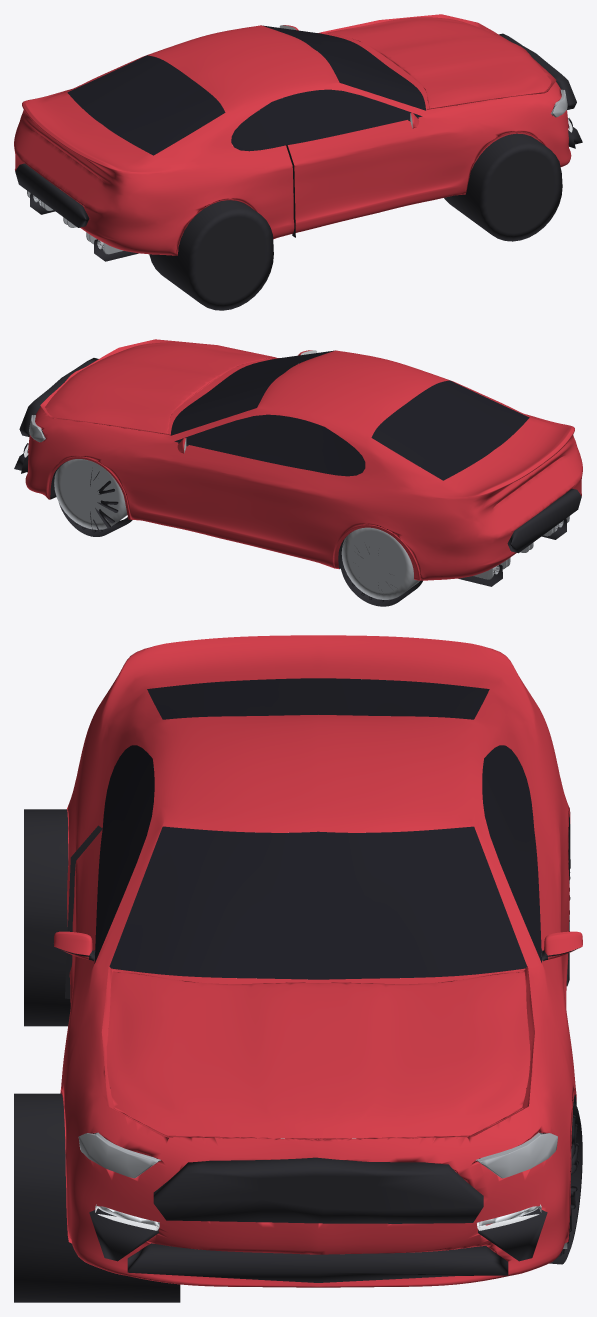
Rendered from car.glb.
3 views of the same model, one above another, from view 1: azimuth 30°, elevation 25°; view 2: azimuth 150°, elevation 25°; view 3: azimuth 270°, elevation 25° (orthographic). The views are drawn at different scales.
Parts seen in each view (by area): view 1: paint, matte, glass, metal; view 2: paint, glass, metal (×3), matte (×3), gloss; view 3: paint, glass, matte (×2), metal.
Part boxes in pixels (box(x1,y1,x2,y2)): paint: box(14, 14, 571, 255); matte: box(15, 33, 582, 310); glass: box(67, 25, 572, 155); metal: box(27, 89, 567, 254); paint: box(25, 339, 582, 580); glass: box(23, 350, 529, 480); metal (×3): box(29, 415, 569, 599); matte (×3): box(14, 358, 581, 606); gloss: box(75, 470, 118, 532); paint: box(54, 635, 582, 1287); glass: box(91, 678, 544, 1162); matte (×2): box(14, 809, 582, 1302); metal: box(78, 1132, 557, 1178).
Size of the model in its own units: 4.83 by 1.67 by 2.46.
